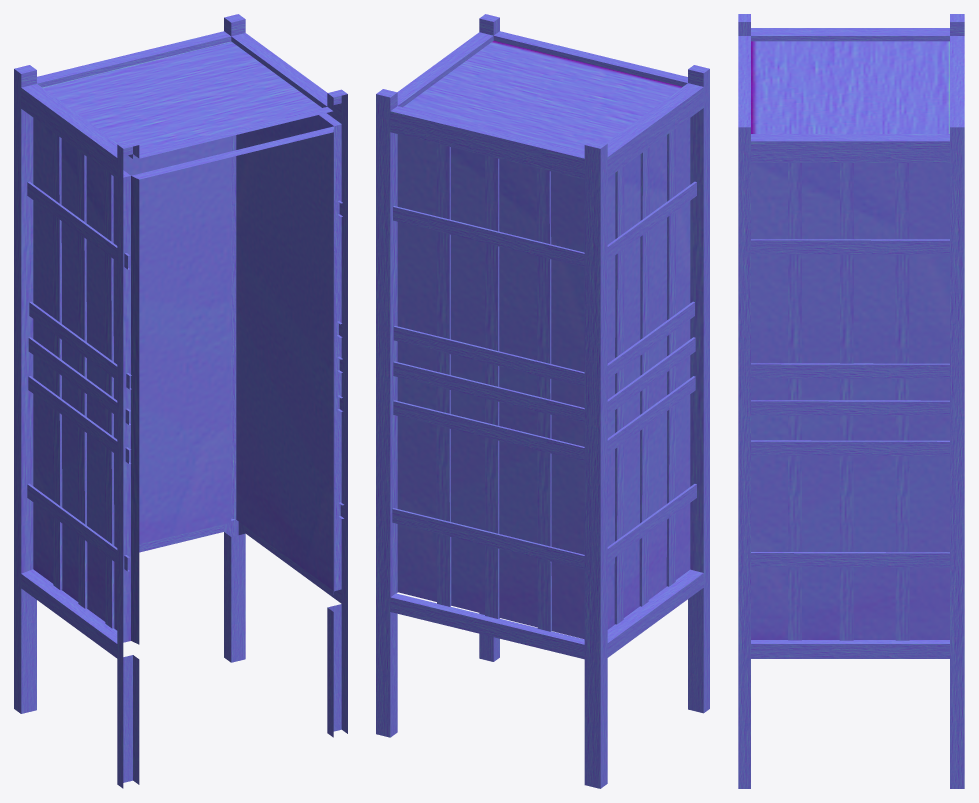
Rendered from PaperLantern.fbx.
3 renders of one model, left to right at view 1: azimuth 30°, elevation 25°; view 2: azimuth 150°, elevation 25°; view 3: azimuth 270°, elevation 25°, orthographic. The views are drawn at different scales.
Visible parts, largest first — view 1: IndoorLantern; view 2: IndoorLantern; view 3: IndoorLantern.
Part boxes in pixels (x1=…): IndoorLantern: x1=14, y1=14, x2=347, y2=788; IndoorLantern: x1=376, y1=14, x2=709, y2=788; IndoorLantern: x1=738, y1=14, x2=964, y2=788.
Size of the model in its own units: 38.98 by 32.92 by 106.
